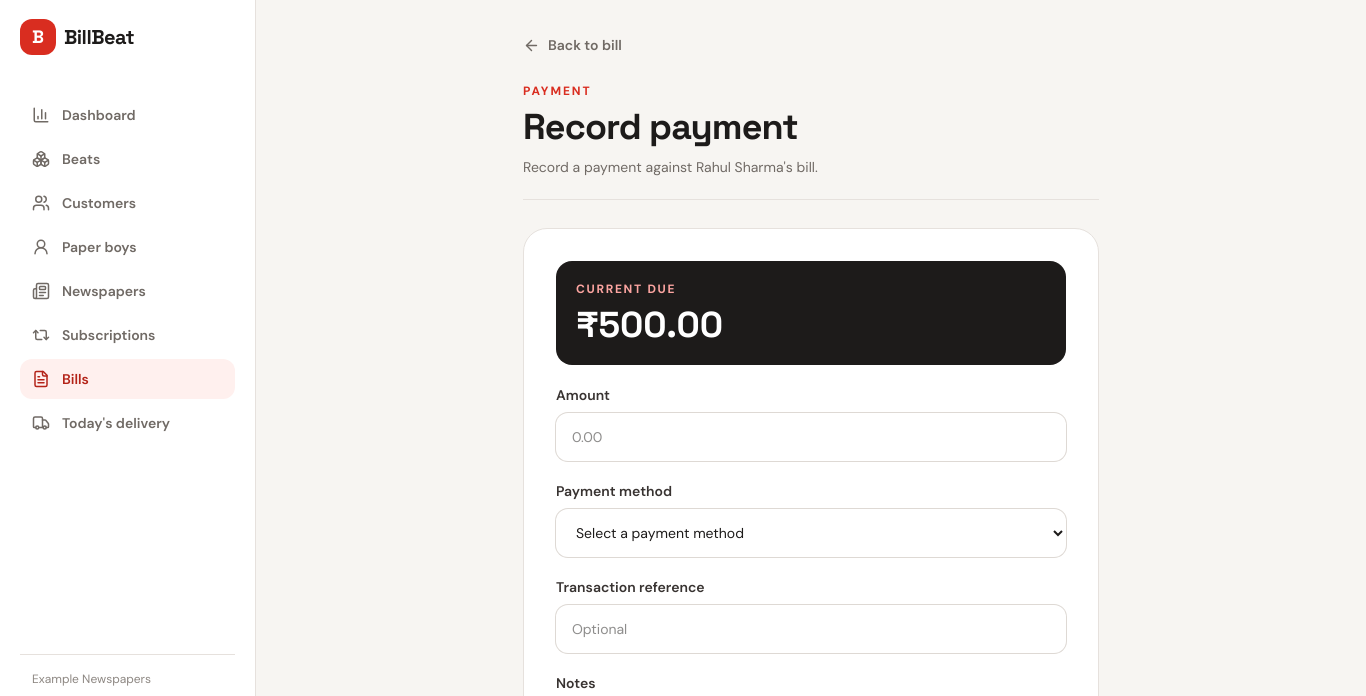
Test: bill payment integration › successful payment refreshes bill detail and displays updated balances
Check: the text "₹500.00" is shown, box [576,302,723,348]
In the number field labelled "Amount": (811, 437) [556,413,1066,461], type "200"
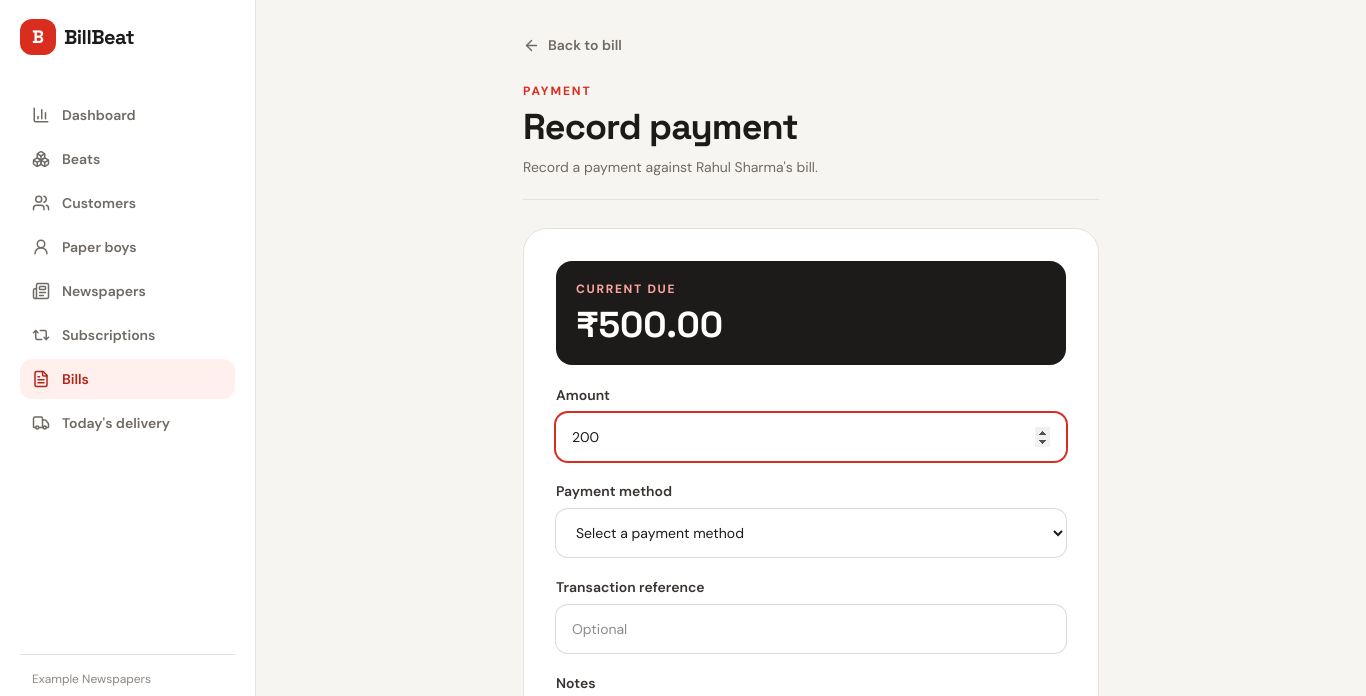
Select "UPI" in the dropdown labelled "Payment method": (811, 533) [556,509,1066,557]
(page scrolled)
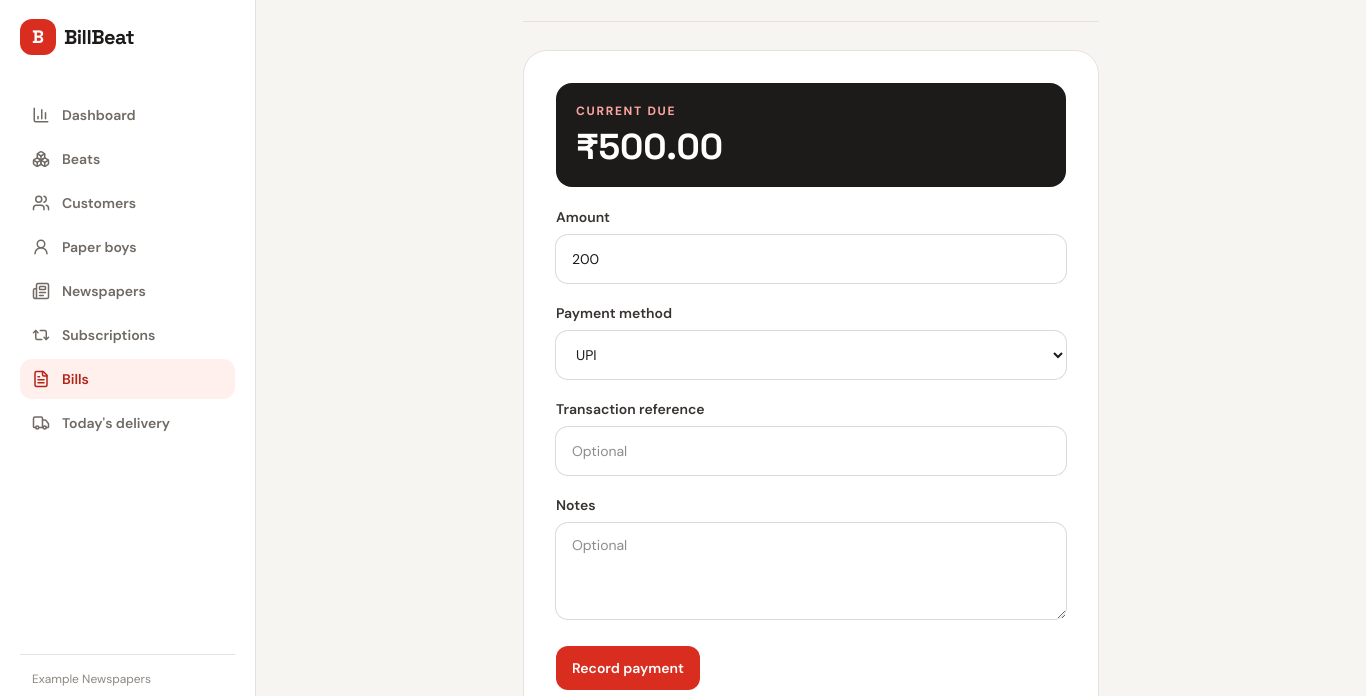
Click the button "Record payment": (628, 668) [556,646,700,690]
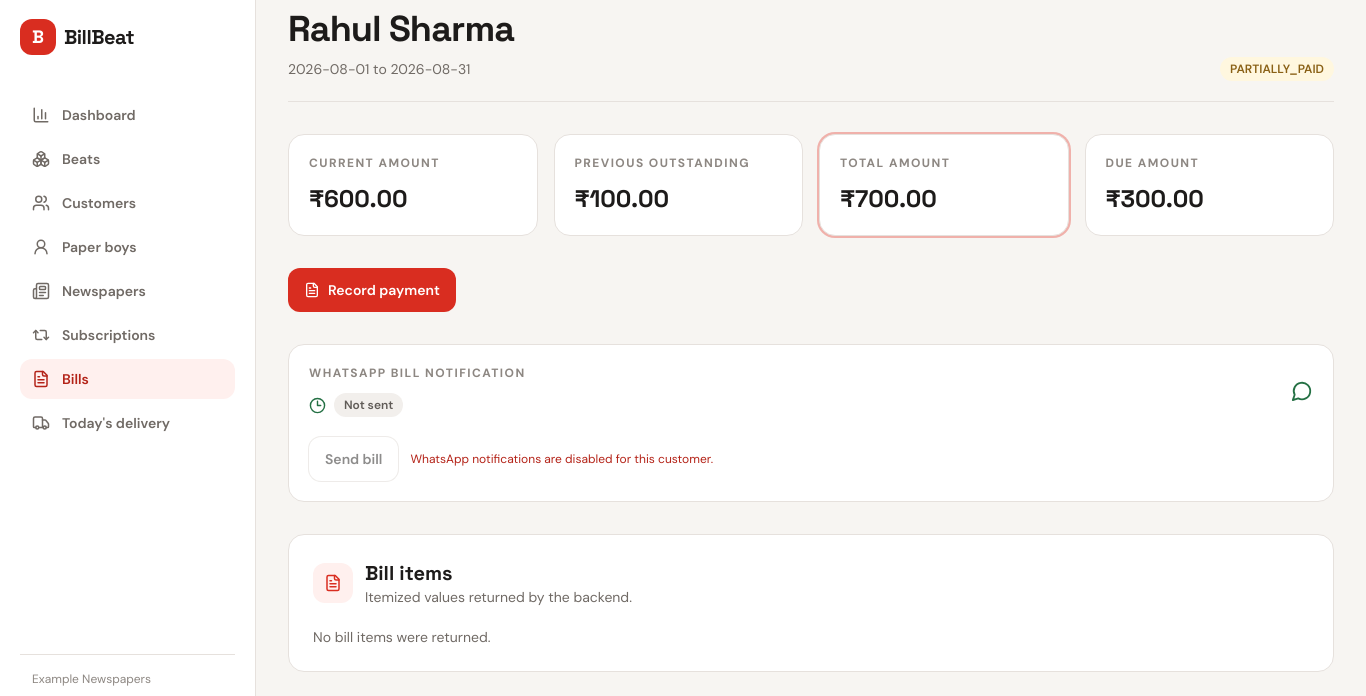
Check: the text "₹300.00" is shown, box [1106,183,1204,214]
